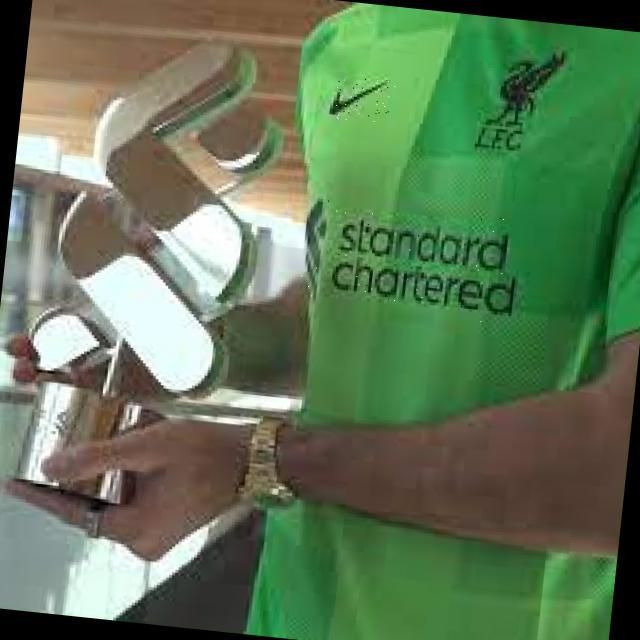Nike: (330, 74, 396, 124)
Standard Chartered: (297, 197, 526, 327)
